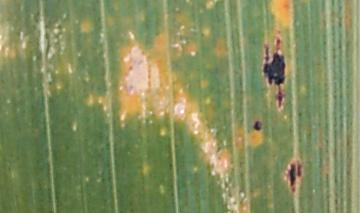tarspot: (263, 38, 286, 109), (286, 162, 297, 192), (252, 120, 263, 130), (297, 163, 303, 179)
